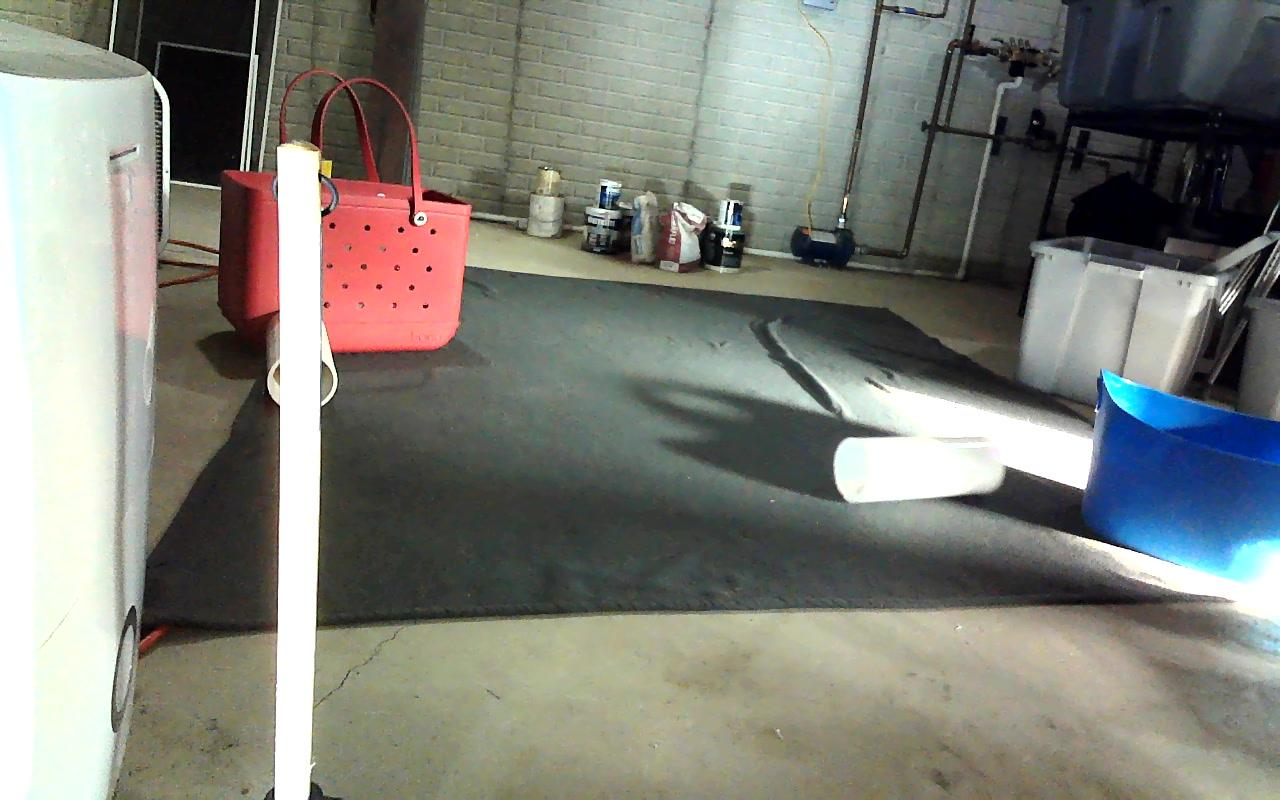coral: (835, 434, 1004, 503), (267, 310, 336, 407)
